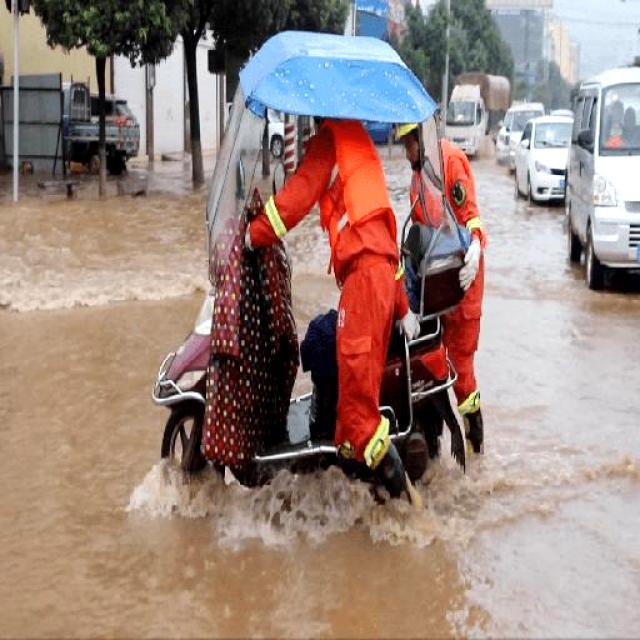rescuer: (233, 108, 439, 526), (392, 106, 511, 468)
